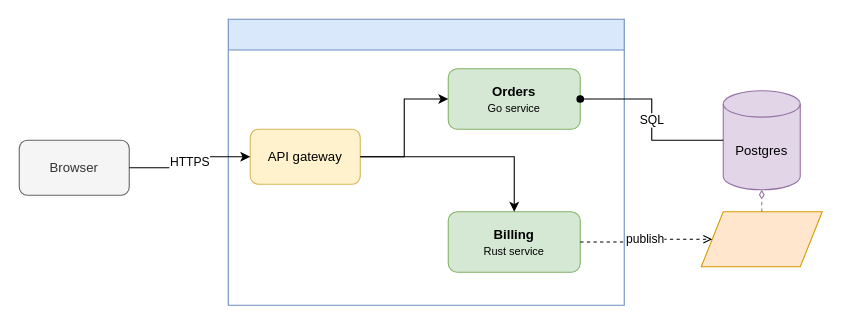
The diagram is 842 pixels wide and 325 high, and some of its shapes have lost their labels. Each missing label, with the box of its shape:
Backend: (227, 18, 624, 305)
Event bus: (700, 211, 822, 267)
